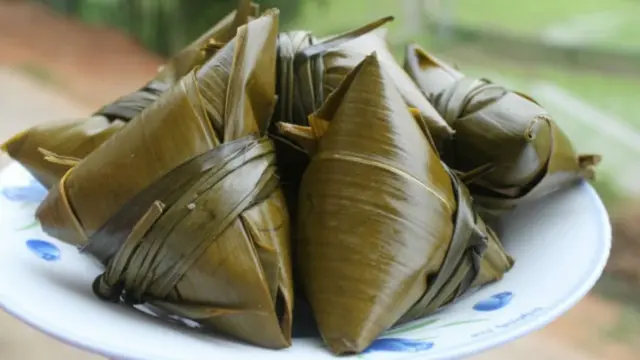zongzi: (36, 10, 293, 348), (298, 54, 490, 353), (405, 45, 599, 214)
